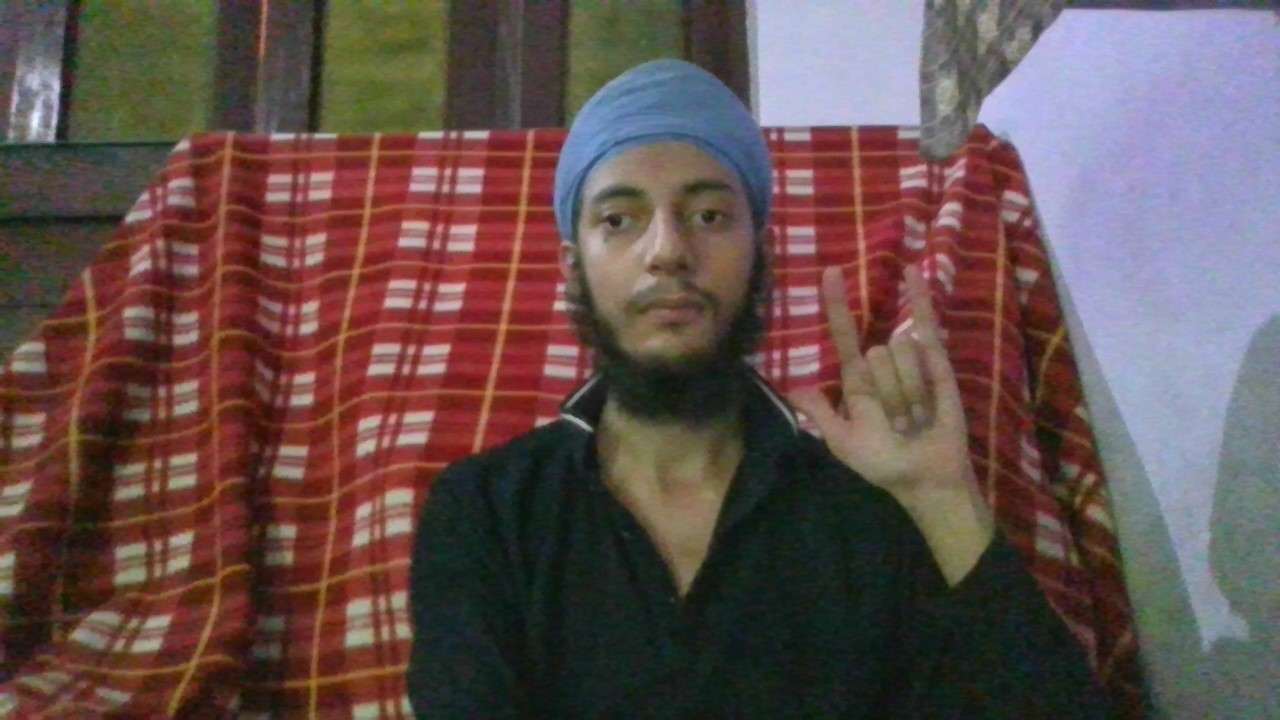I Love You: (786, 261, 978, 496)
